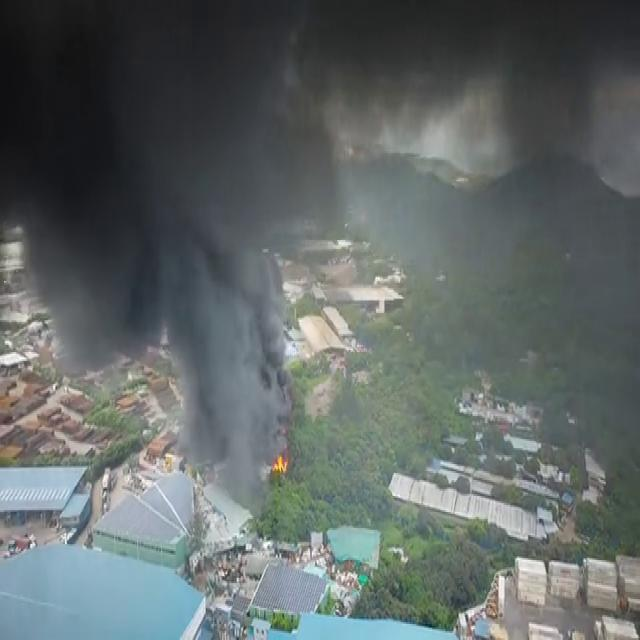smoke: (109, 5, 339, 236), (343, 5, 631, 152), (184, 220, 294, 486), (30, 204, 172, 370), (1, 8, 104, 218)
